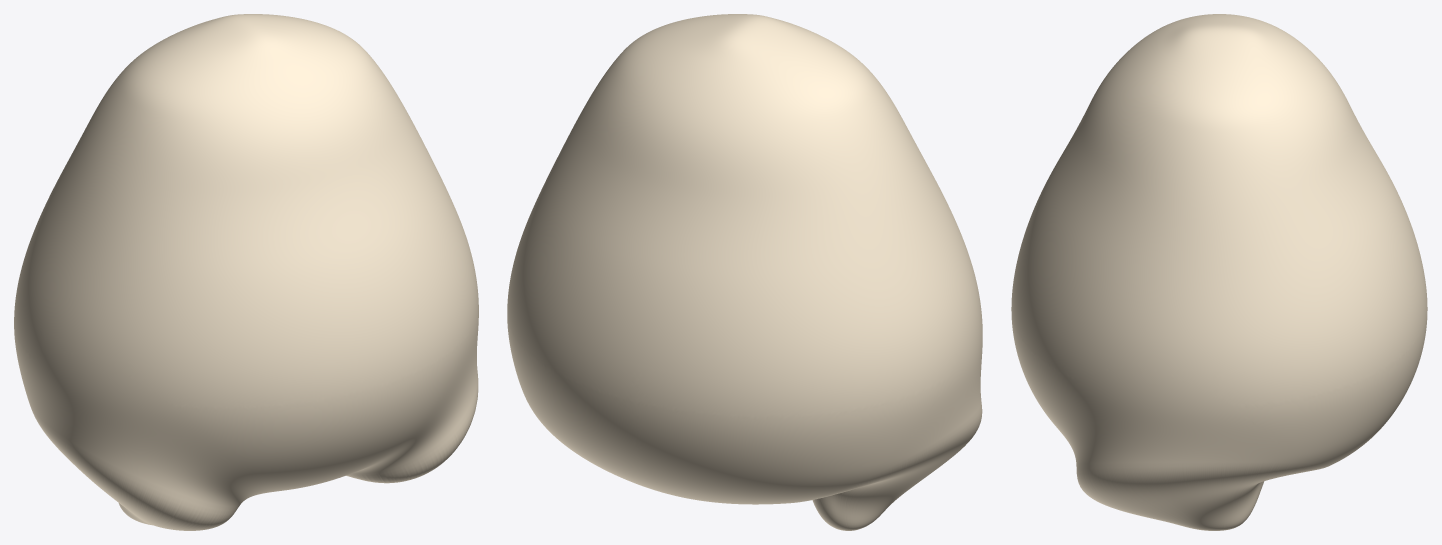
File: body.glb
The picture shows the model from 3 angles, left to right: view 1: azimuth 30°, elevation 25°; view 2: azimuth 150°, elevation 25°; view 3: azimuth 270°, elevation 25°; orthographic projection. The views are drawn at different scales.
Visible parts, largest first — view 1: Torso_DesignV7; view 2: Torso_DesignV7; view 3: Torso_DesignV7.
Part boxes in pixels (<box>): Torso_DesignV7: <box>14,14,478,530</box>; Torso_DesignV7: <box>507,14,982,530</box>; Torso_DesignV7: <box>1011,14,1427,530</box>.
Bounding box in the file's own units: 39.76 × 42.83 × 35.99.
